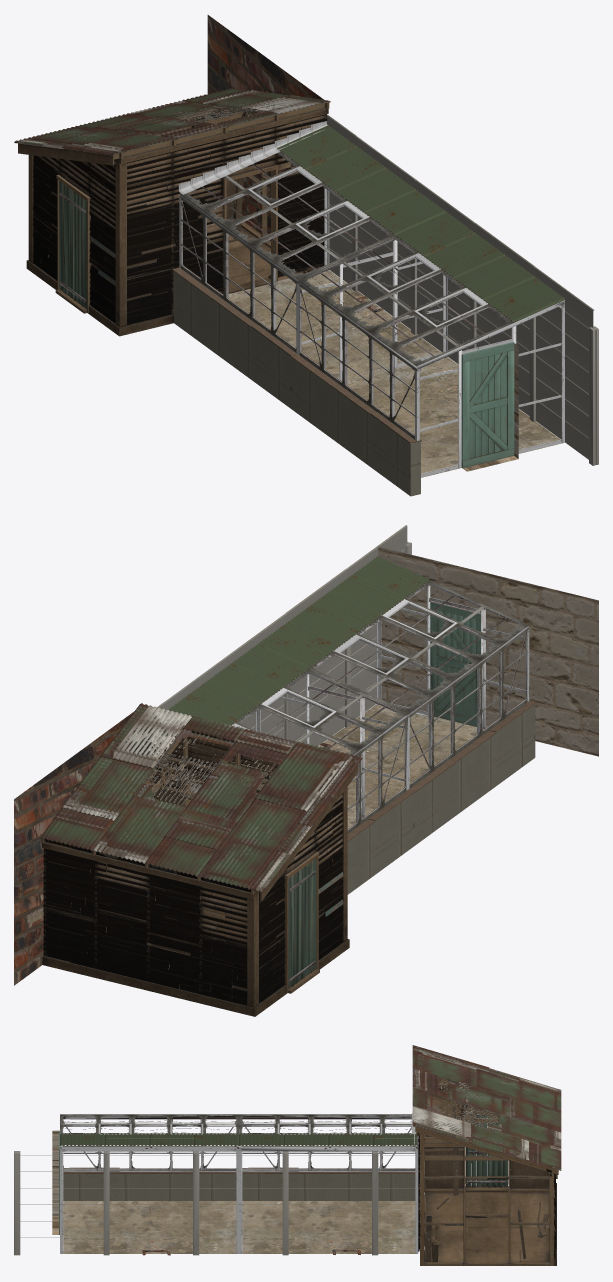
Rendered from shed.glb.
3 views of the same model, one above another, from view 1: azimuth 30°, elevation 25°; view 2: azimuth 150°, elevation 25°; view 3: azimuth 270°, elevation 25° (orthographic). The views are drawn at different scales.
Parts seen in each view (by area): view 1: shed_building; view 2: shed_building; view 3: shed_building.
Boxes of the visible parts, x1,y1,x2,y2 form: shed_building: (14,15,598,496); shed_building: (14,525,598,1016); shed_building: (14,1045,561,1265).
Bounding box in the file's own units: 4.33 × 3.53 × 13.07.
18 materials, 18 textured.
